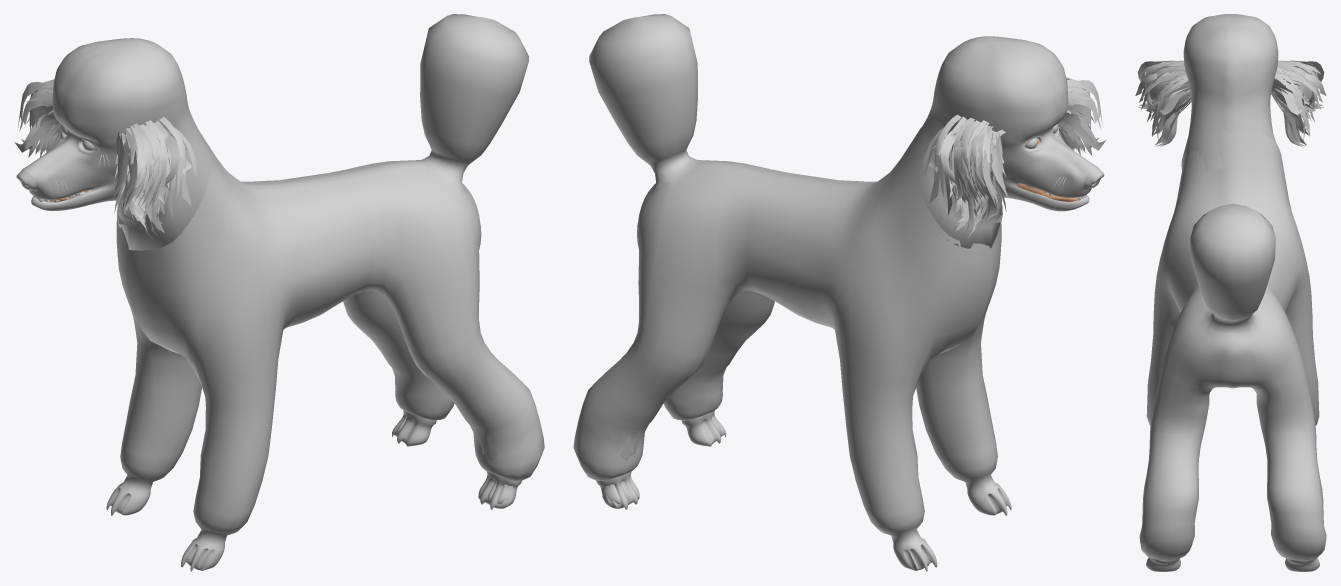
Rendered from PoodleFurPhase.fbx.
3 renders of one model, left to right at view 1: azimuth 30°, elevation 25°; view 2: azimuth 150°, elevation 25°; view 3: azimuth 270°, elevation 25°, orthographic. The views are drawn at different scales.
Visible parts, largest first — view 1: Dog new_Body.001, Dog new_Foot.003, Dog Ears.001, Dog new_Body Shaved.001; view 2: Dog new_Body.001, Dog new_Foot.003, Dog Ears.001, Dog new_Body Shaved.001; view 3: Dog new_Body.001, Dog new_Foot.003, Dog Ears.001.
Boxes of the visible parts, x1,y1,x2,y2 form: Dog new_Body.001: (106,14,544,571); Dog new_Foot.003: (16,38,223,250); Dog Ears.001: (14,79,196,239); Dog new_Body Shaved.001: (36,135,517,536); Dog new_Body.001: (573,14,1011,571); Dog new_Foot.003: (914,36,1104,248); Dog Ears.001: (923,77,1106,238); Dog new_Body Shaved.001: (600,138,1083,536); Dog new_Body.001: (1139,130,1326,571); Dog new_Foot.003: (1181,14,1278,171); Dog Ears.001: (1135,60,1326,146).
Size of the model in its own units: 337 by 323 by 136.
